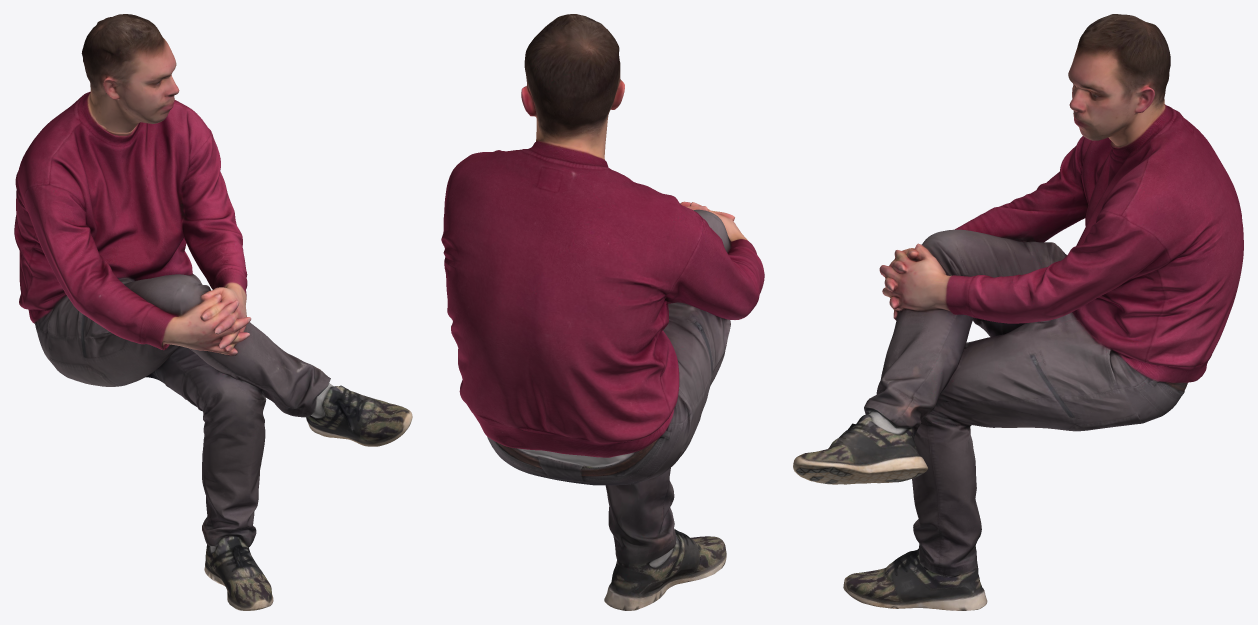
File: f25c2ffe-4fcc-4adb-897d-72f39db45b73.glb
The picture shows the model from 3 angles, left to right: view 1: azimuth 30°, elevation 25°; view 2: azimuth 150°, elevation 25°; view 3: azimuth 270°, elevation 25°; orthographic projection. The views are drawn at different scales.
Visible parts, largest first — view 1: Human_1; view 2: Human_1; view 3: Human_1.
Part boxes in pixels (bbox=[...]): Human_1: bbox=[14, 14, 412, 610]; Human_1: bbox=[441, 14, 764, 610]; Human_1: bbox=[793, 14, 1243, 610].
Bounding box in the file's own units: 0.7095 × 1.4 × 0.9998.
Materials: 1 (1 with a texture image).
